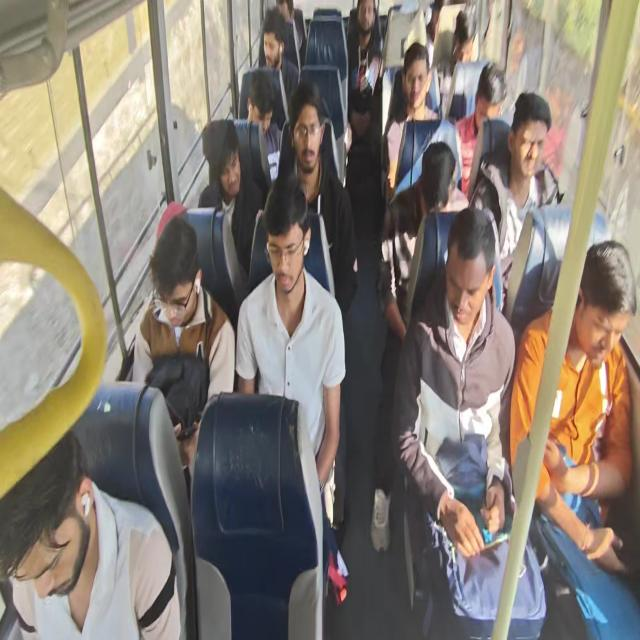person: (0, 402, 91, 580), (556, 256, 628, 364), (154, 205, 212, 327), (438, 219, 481, 327), (416, 139, 470, 223), (266, 212, 317, 291), (204, 119, 247, 192), (286, 106, 331, 173), (413, 0, 459, 44), (519, 114, 549, 180), (469, 71, 503, 128), (243, 86, 280, 137), (256, 21, 288, 77), (400, 54, 430, 108), (452, 19, 482, 67), (351, 0, 383, 40), (274, 0, 307, 28)
